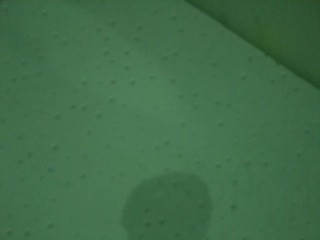Water_detected: (127, 176, 196, 240)
